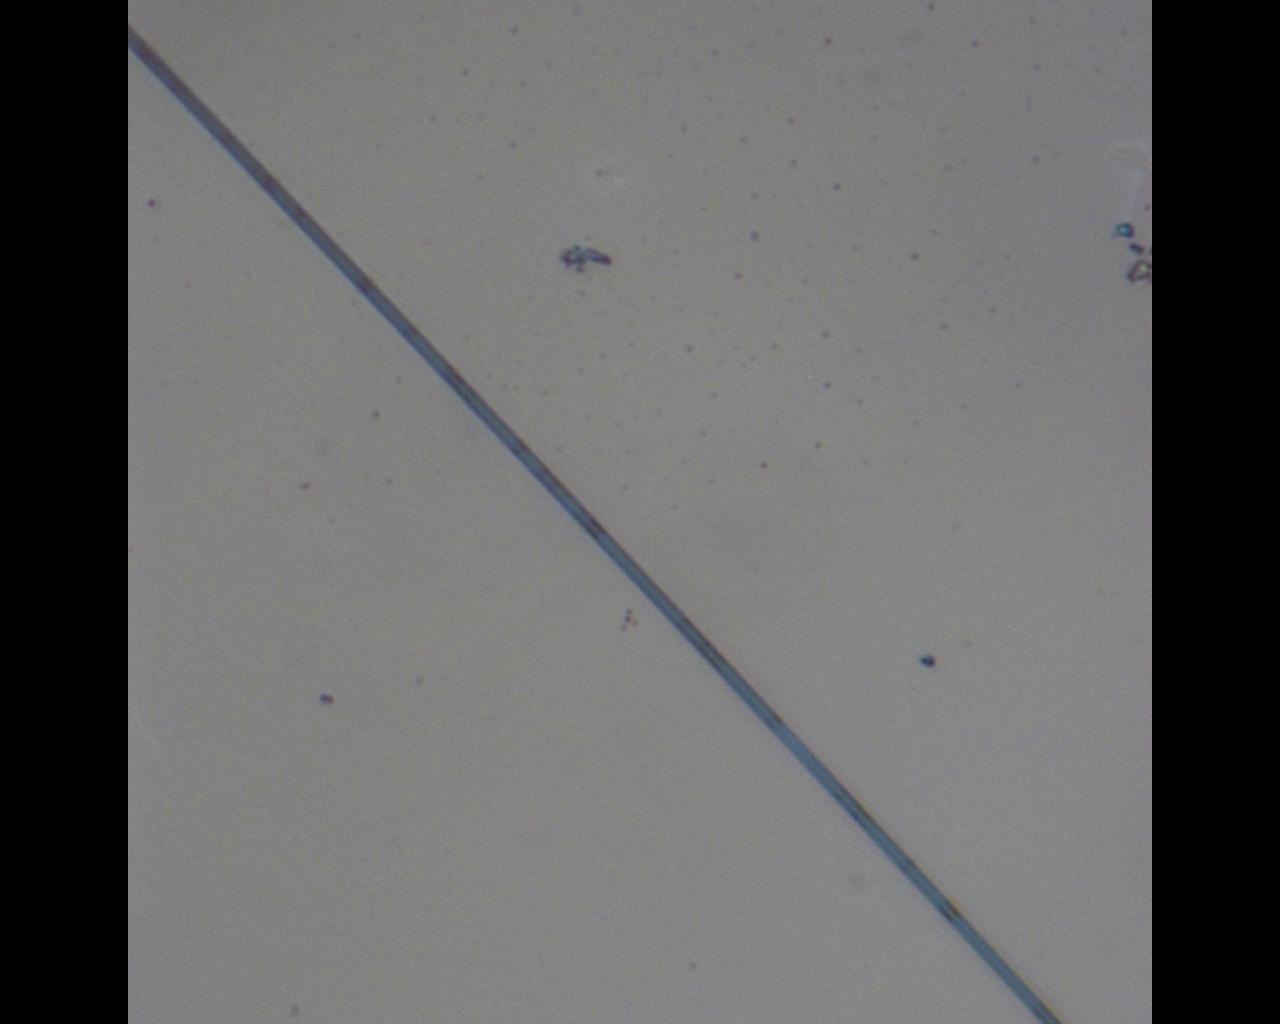fiber: (127, 23, 1063, 1024)
